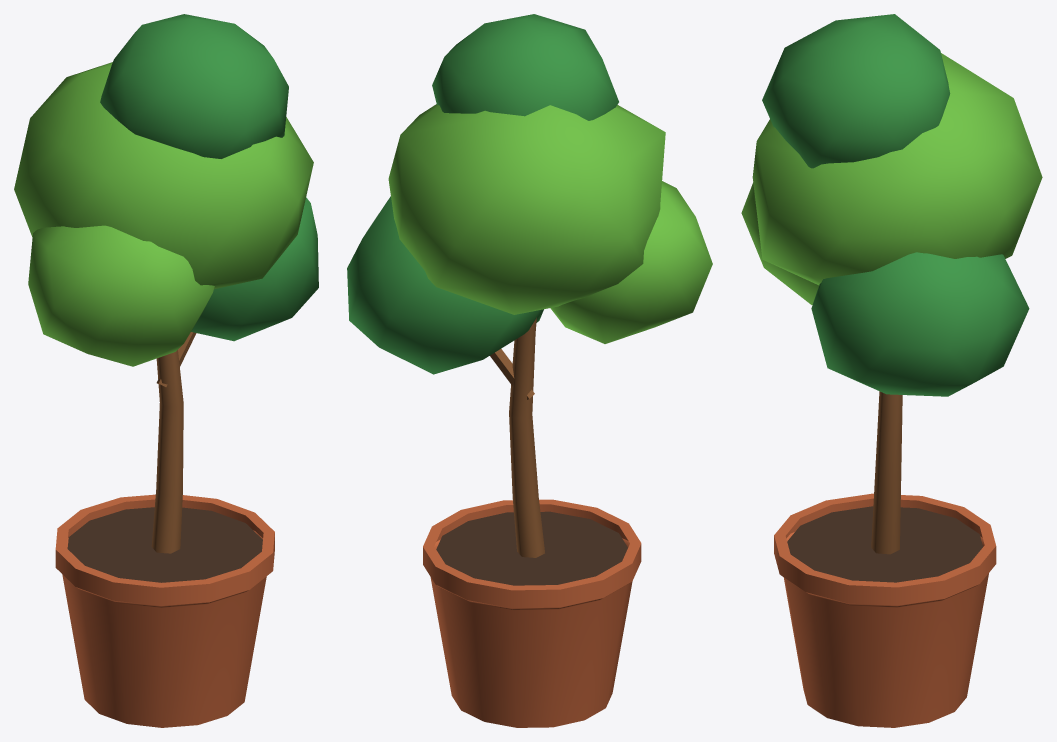
File: PlantaGrande.fbx
3 views of the same model, side by side, from view 1: azimuth 30°, elevation 25°; view 2: azimuth 150°, elevation 25°; view 3: azimuth 270°, elevation 25° (orthographic). The views are drawn at different scales.
Visible parts, largest first — view 1: PlantaGrande; view 2: PlantaGrande; view 3: PlantaGrande.
Boxes of the visible parts, left/top/right/bottom form: PlantaGrande: left=14, top=14, right=318, bottom=727; PlantaGrande: left=347, top=14, right=712, bottom=727; PlantaGrande: left=741, top=14, right=1042, bottom=727.
Size of the model in its own units: 3.34 by 7.09 by 2.86.
Materials: 1 (1 with a texture image).
